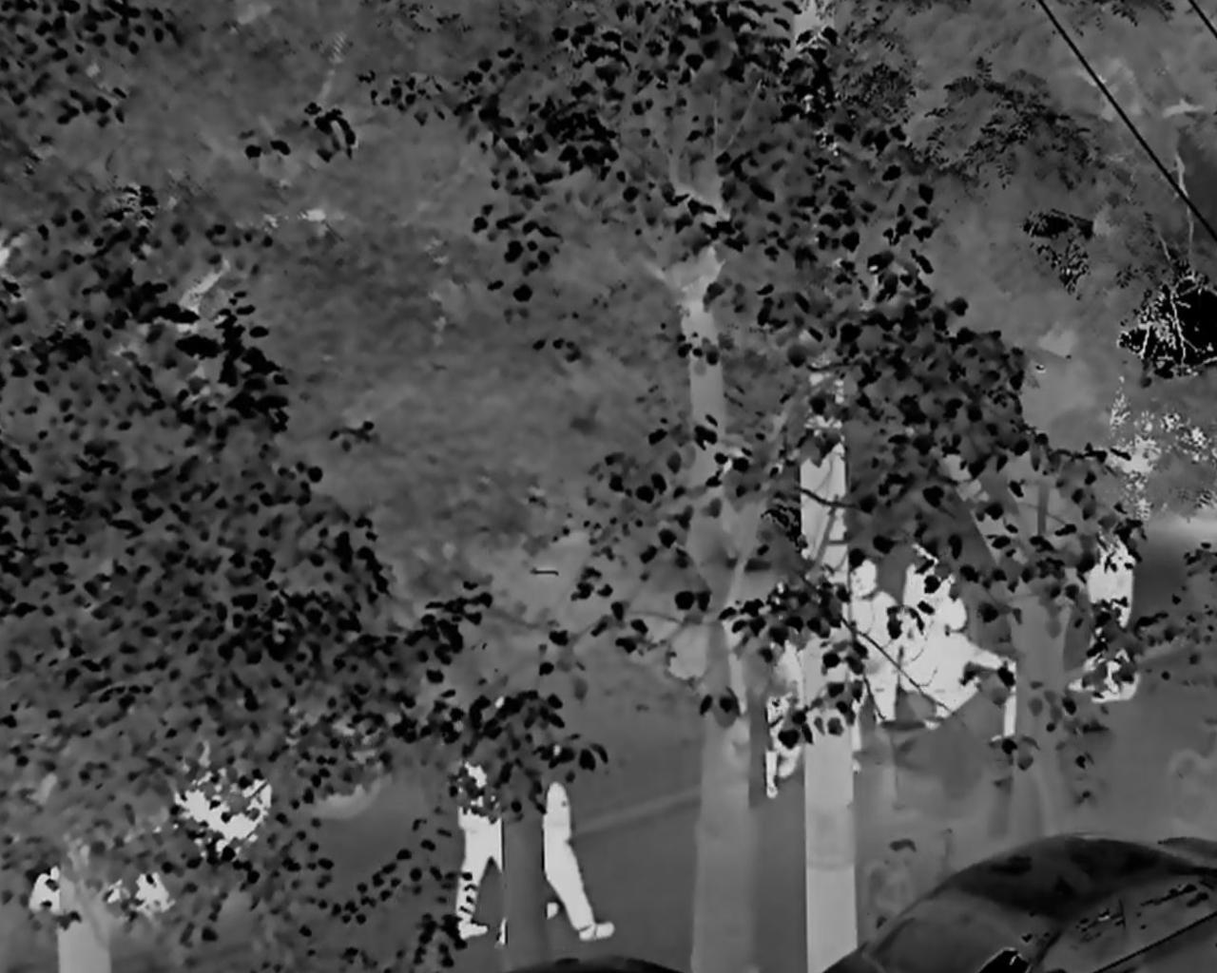person: (903, 564, 1018, 788), (455, 749, 551, 972), (529, 769, 620, 949), (843, 564, 904, 787)
